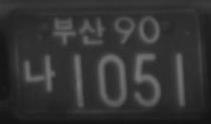0: (96, 53, 127, 107), (138, 15, 161, 44)
1: (64, 54, 92, 108), (167, 52, 194, 107)
5: (131, 52, 162, 107)
9: (113, 15, 136, 44)
나: (24, 54, 55, 94)
부산_O: (53, 15, 105, 46)
